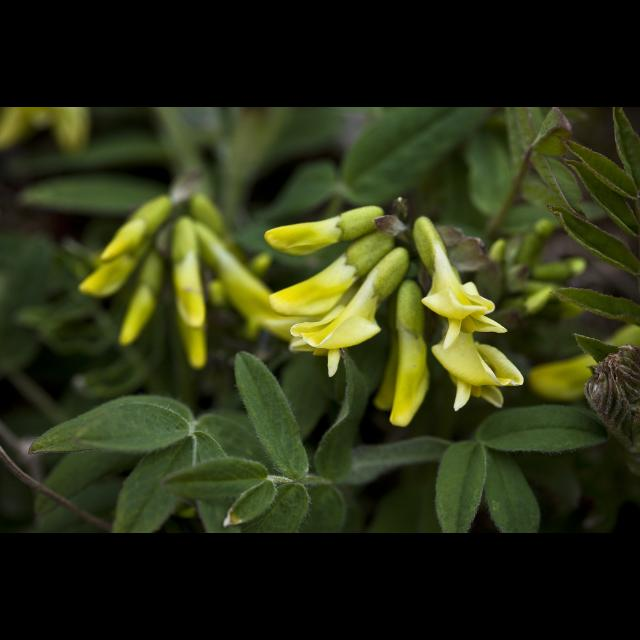Flower: (291, 241, 411, 369), (266, 227, 398, 319), (411, 212, 495, 346), (200, 230, 284, 348), (528, 326, 636, 402), (383, 274, 433, 426), (266, 204, 380, 258), (175, 214, 213, 332), (76, 241, 148, 303), (101, 195, 170, 257), (124, 259, 170, 349), (178, 320, 204, 374)
